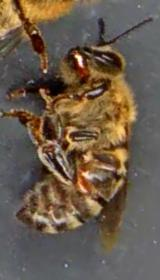varroa_mite: (72, 170, 95, 205)
